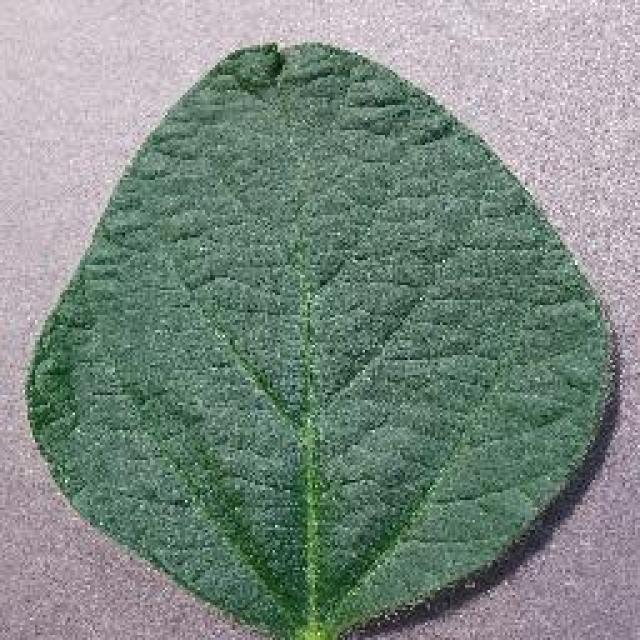Soy_healthy: (50, 71, 601, 563)
